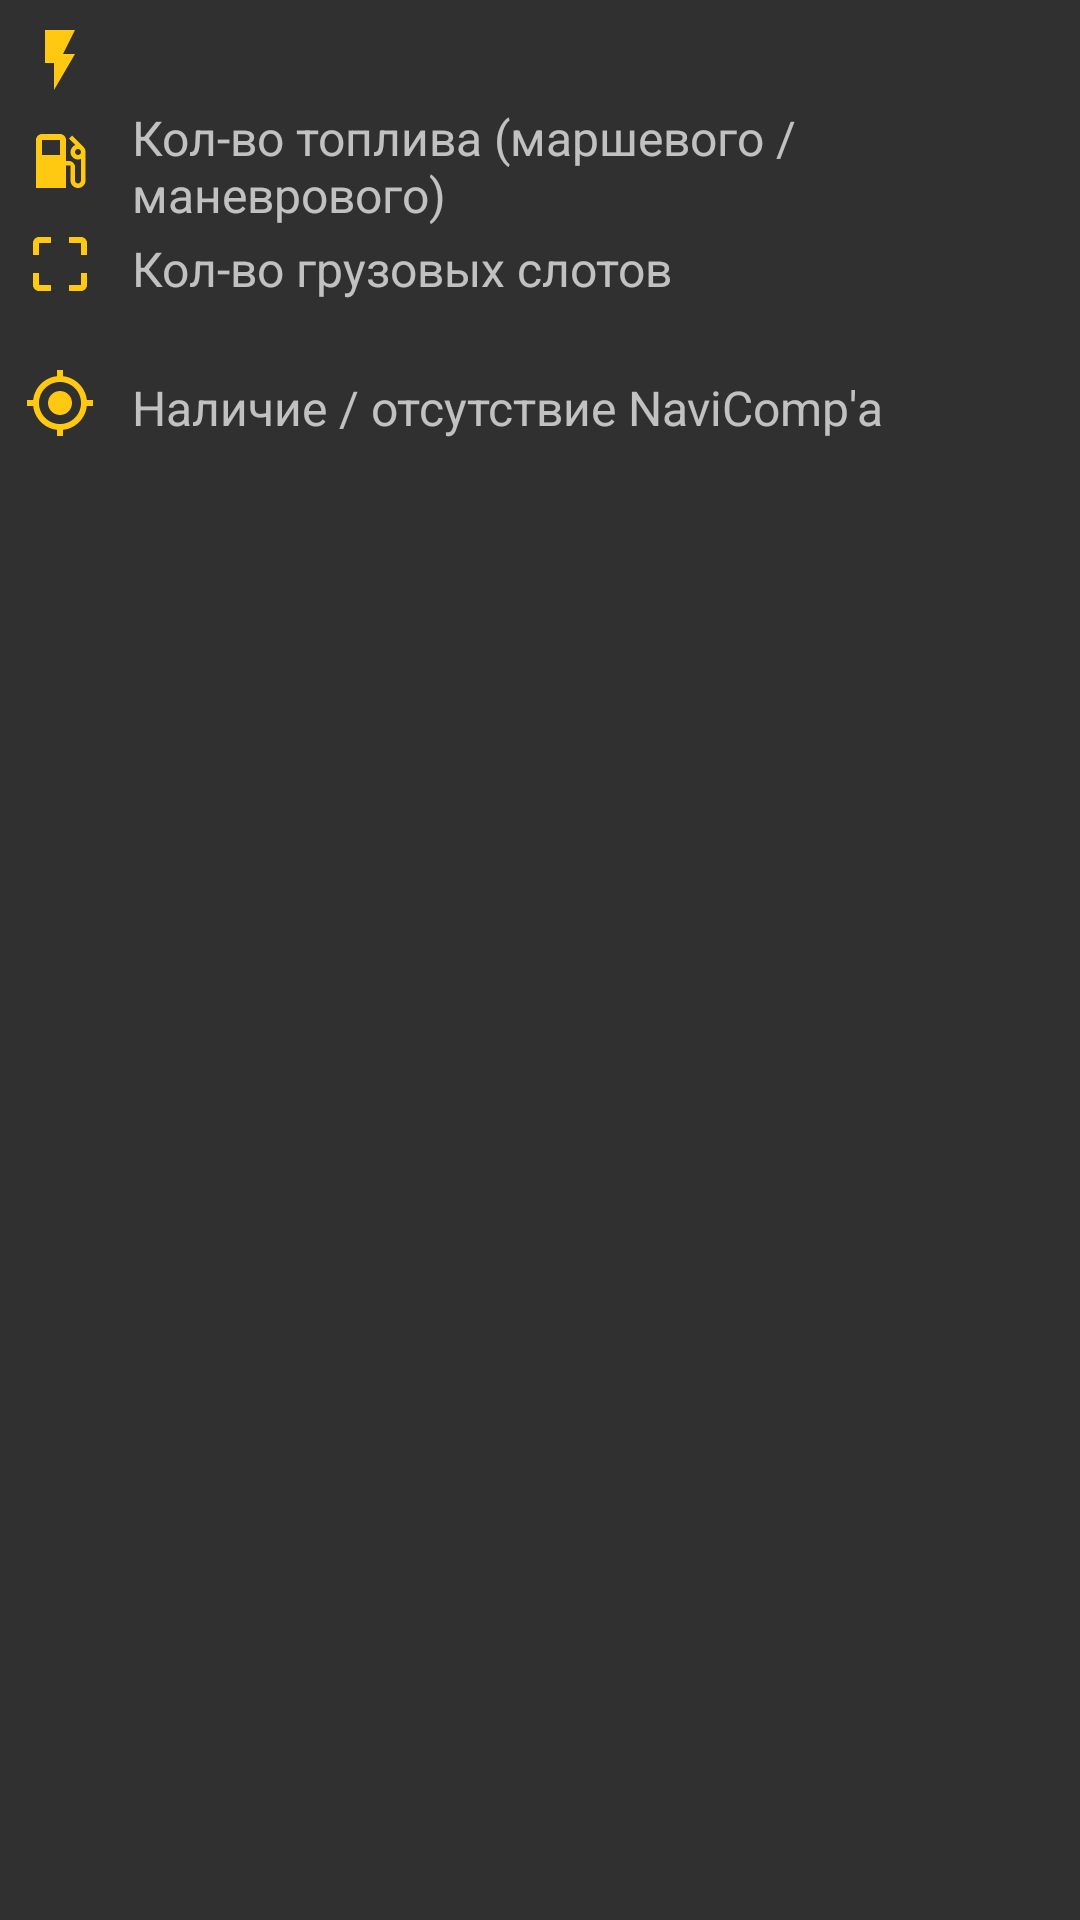

Screen size 1080 x 1920. Icon name, then its box in pixels as box=[x1, y1, x2, y2]:
fuel: box=[36, 134, 86, 188]
nav: box=[27, 370, 93, 436]
power: box=[45, 30, 75, 90]
